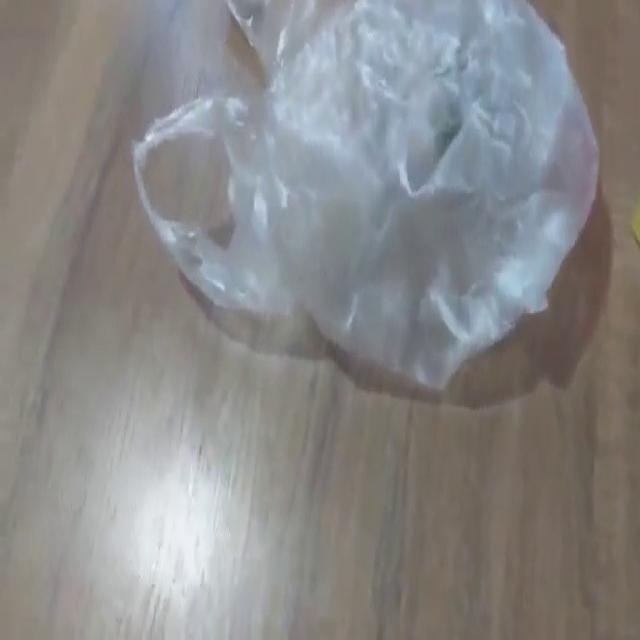Anorganik: (128, 1, 606, 396)
